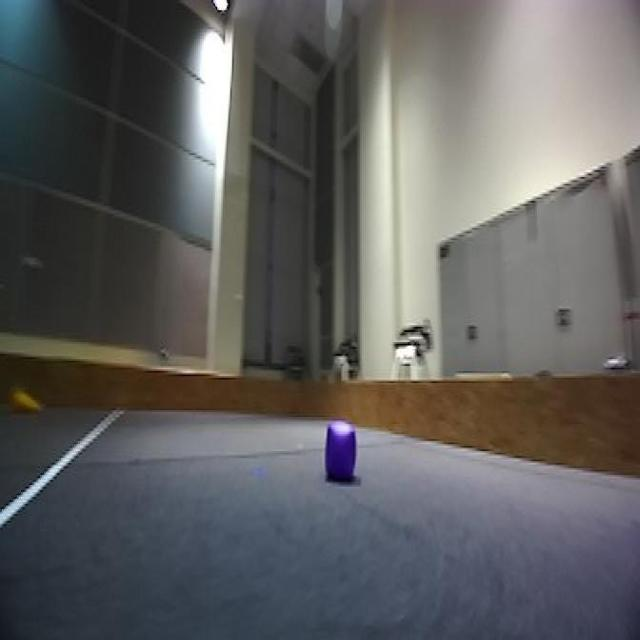frc_cube: (320, 419, 359, 485)
